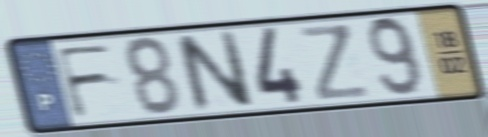4: (252, 24, 307, 109)
8: (123, 33, 185, 120)
9: (367, 13, 427, 101)
F: (51, 41, 117, 122)
N: (170, 27, 258, 116)
Z: (295, 21, 374, 104)
